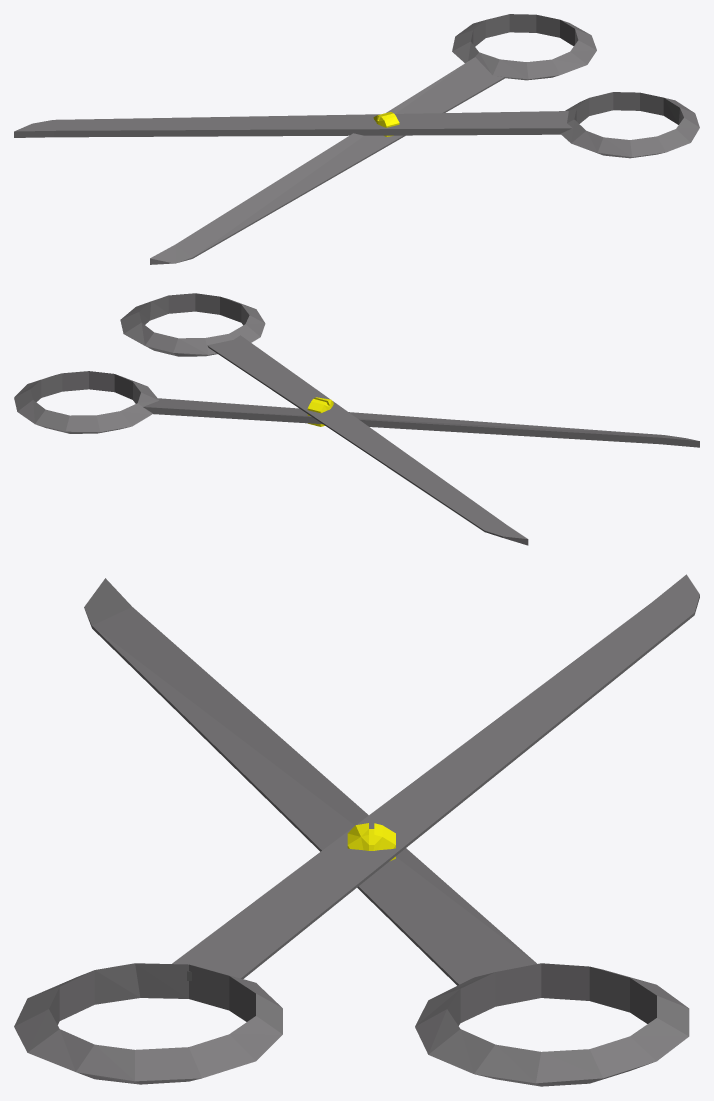
Rendered from Scissors.glb.
The picture shows the model from 3 angles, top to bottom: view 1: azimuth 30°, elevation 25°; view 2: azimuth 150°, elevation 25°; view 3: azimuth 270°, elevation 25°; orthographic projection. The views are drawn at different scales.
Parts seen in each view (by area): view 1: Scissors; view 2: Scissors; view 3: Scissors.
Part boxes in pixels (box(x1,y1,x2,y2)): Scissors: box(14, 14, 699, 264); Scissors: box(14, 293, 699, 545); Scissors: box(14, 574, 699, 1086).
Size of the model in its own units: 43.97 by 1.9 by 24.81.
1 material, 1 textured.
